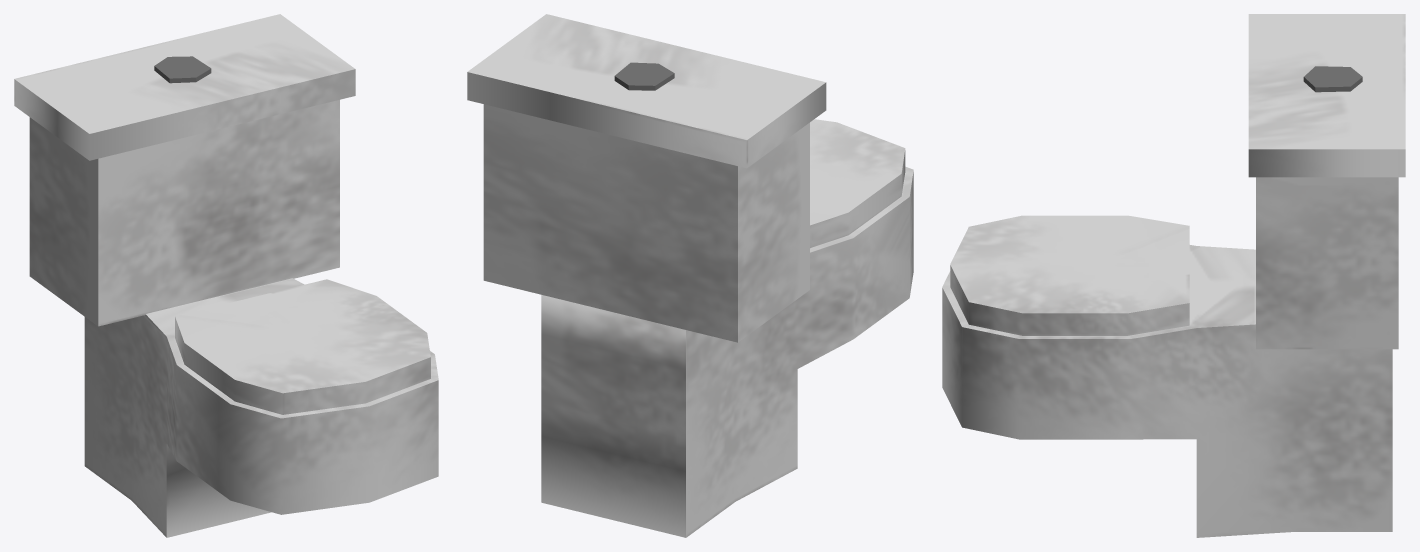
Rendered from privada.glb.
3 renders of one model, left to right at view 1: azimuth 30°, elevation 25°; view 2: azimuth 150°, elevation 25°; view 3: azimuth 270°, elevation 25°, orthographic. The views are drawn at different scales.
Visible parts, largest first — view 1: Cube.023; view 2: Cube.023; view 3: Cube.023.
Boxes of the visible parts, bbox=[...] form: Cube.023: bbox=[14, 14, 438, 537]; Cube.023: bbox=[467, 14, 913, 537]; Cube.023: bbox=[942, 14, 1405, 537].
Bounding box in the file's own units: 0.76 × 1.1 × 1.1.
Materials: 1 (1 with a texture image).
